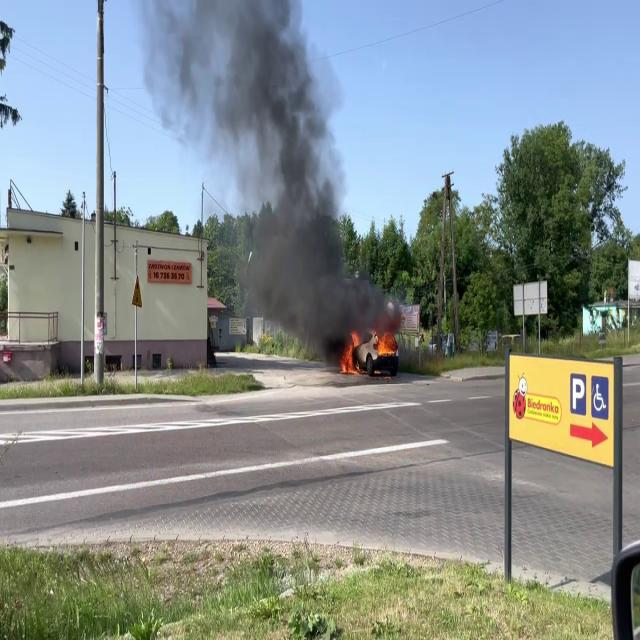Fire: (340, 324, 400, 373)
Smoke: (214, 1, 374, 350)
